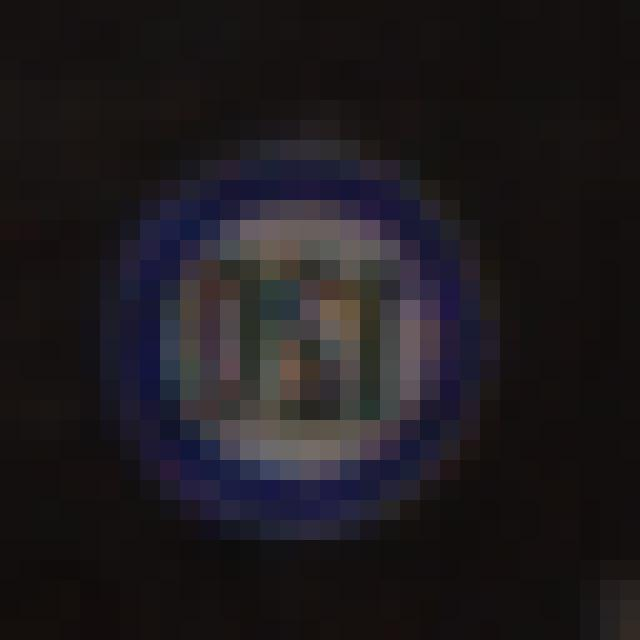SPEED LIMIT 120: (111, 143, 511, 520)
